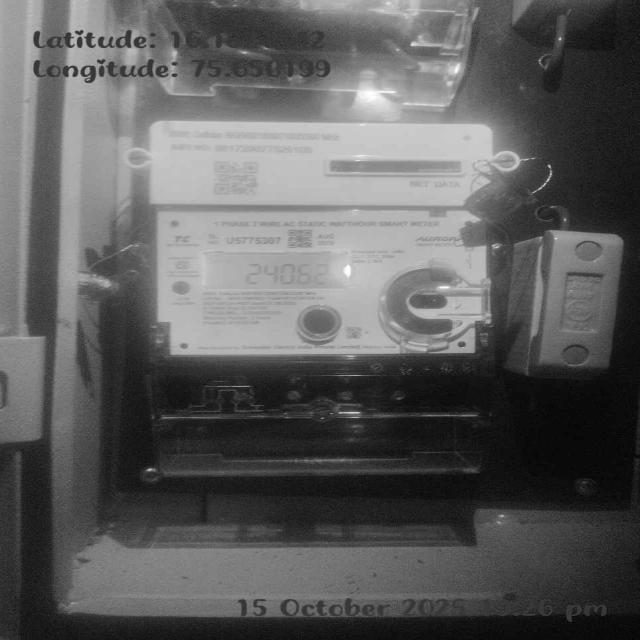meter: (150, 118, 495, 355)
